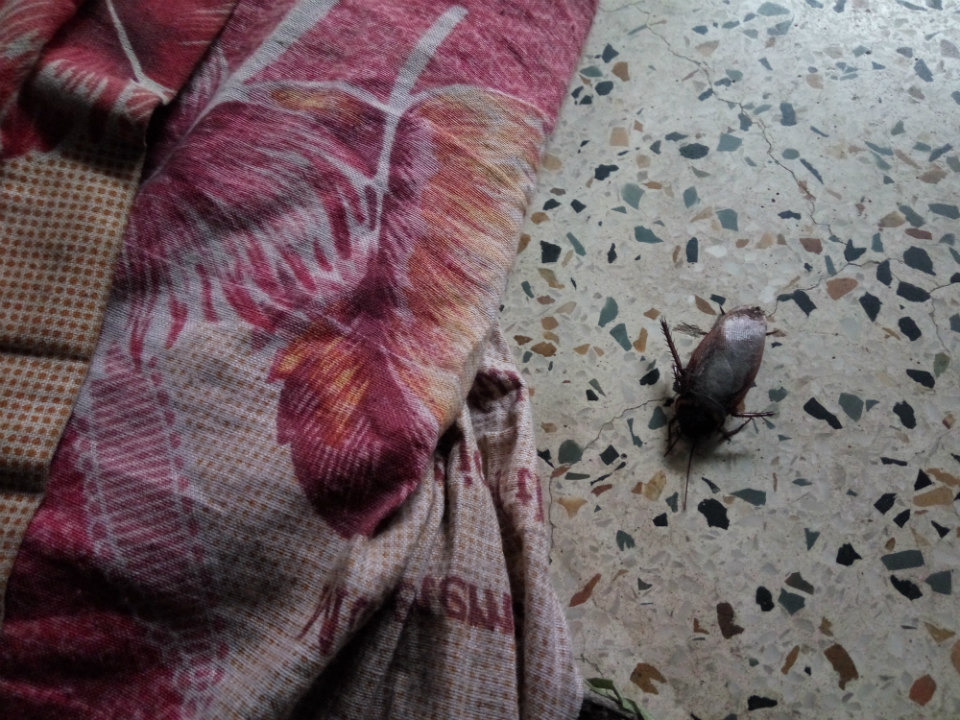cockroach: (595, 261, 873, 514)
